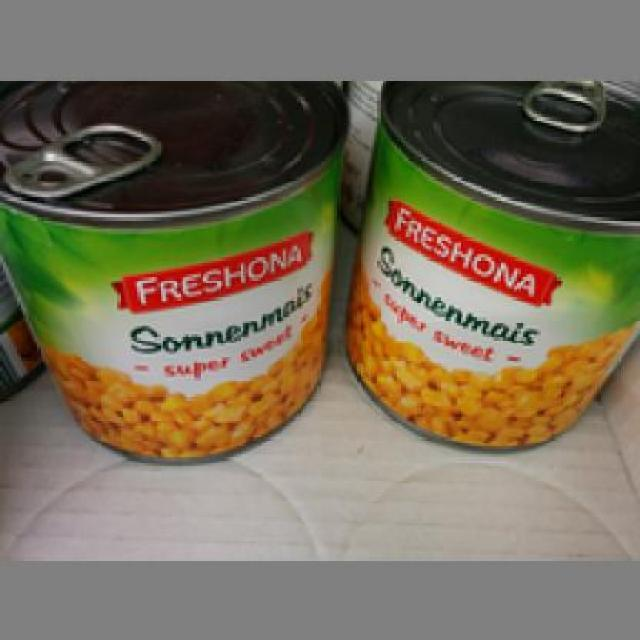Corn: (0, 77, 343, 466), (343, 79, 637, 452)
